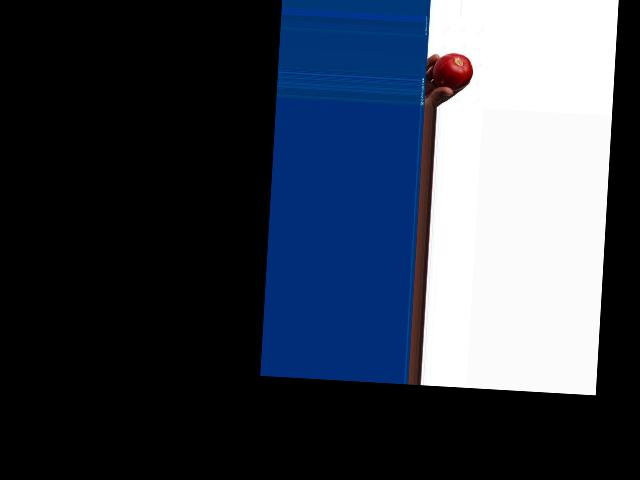tomato: (431, 51, 473, 91)
